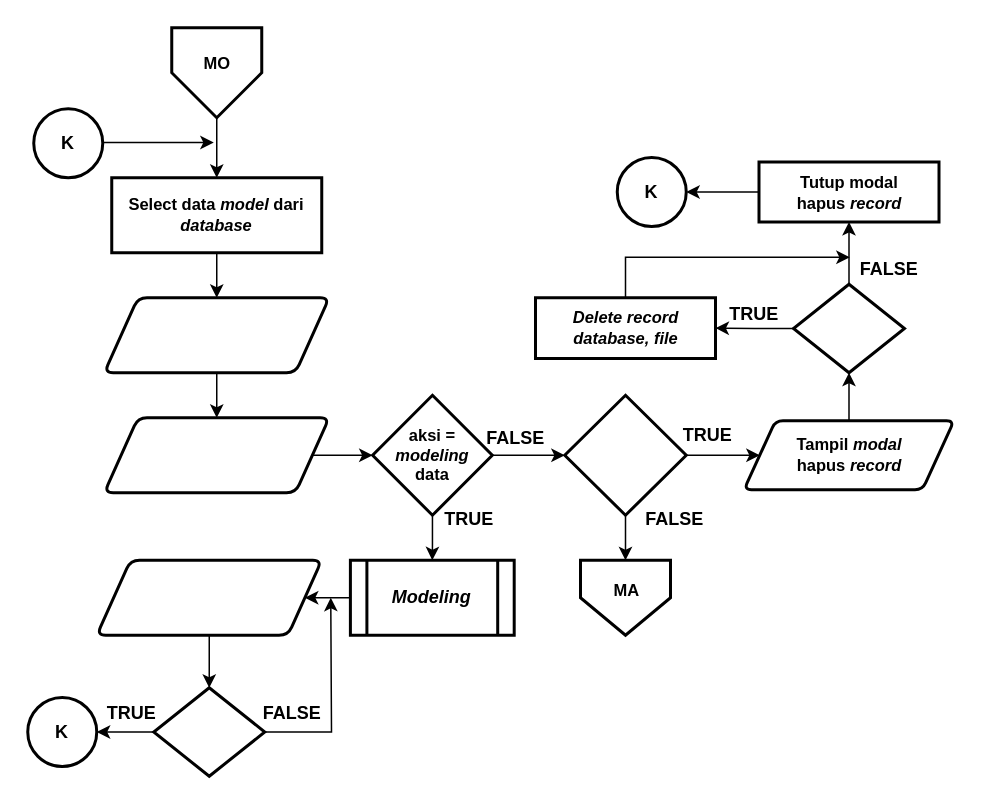
The diagram is 981 pixels wide and 803 high, and some of its shapes have lost their labels. The box of each missing label's shape, as (x1, y1, x2, y2) in pixels:
aksi = hapus record data: (562, 393, 687, 516)
Input aksi, pilih: (102, 416, 330, 494)
pilih = hapus: (791, 282, 905, 374)
pilih = kembali: (152, 686, 266, 777)
Tampil hasil modeling: (94, 558, 322, 636)
Tampilkan halaman modeling: (102, 296, 330, 374)
